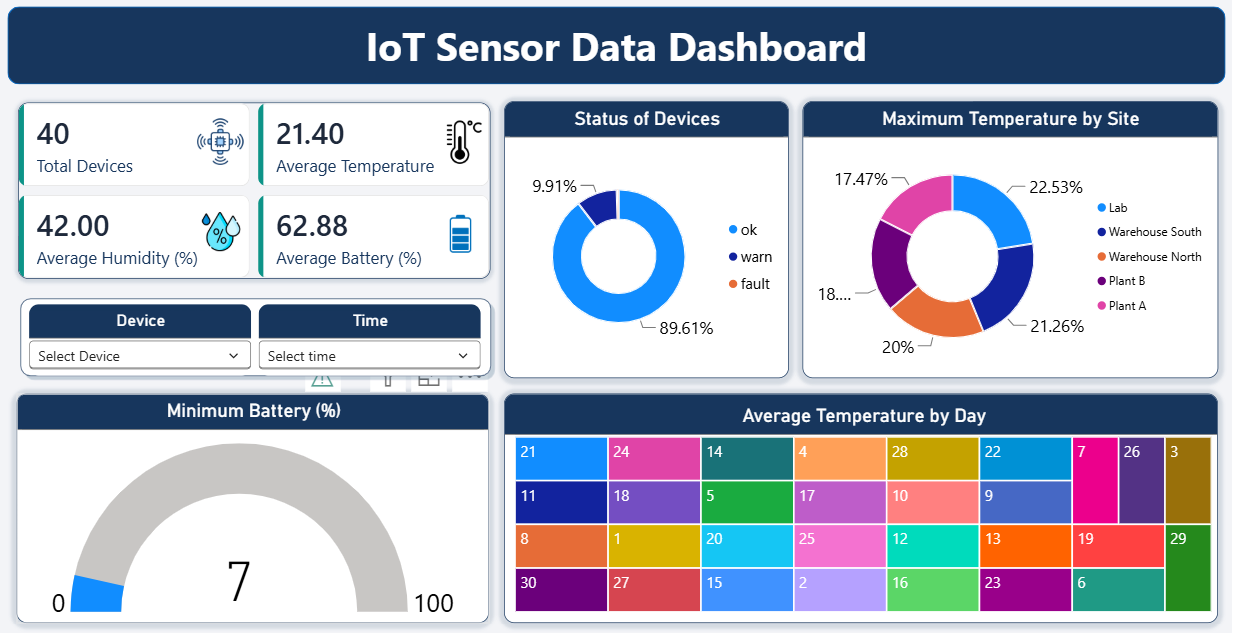

The page's visual inventory and layout, read from the dashboard file:
{"tool":"powerbi","page":{"name":"Page 2","canvas":[1920,1080],"ordinal":1},"visuals":[{"type":"shape","box":[10,10,1160,74.3],"z":0},{"type":"cardVisual","fields":{"Data":["Count(mydatabase sensor_data.device_id)","Avg(mydatabase sensor_data.temperature_c)","Avg(mydatabase sensor_data.humidity_pct)","Avg(mydatabase sensor_data.battery_pct)"]},"box":[20,101,450,168],"z":1000},{"type":"textbox","box":[10,21.4,1160,51.4],"z":2000},{"type":"treemap","title":"Average Temperature by Day","fields":{"Group":["mydatabase sensor_data.date.Variation.Date Hierarchy.Day"],"Values":["Avg(mydatabase sensor_data.temperature_c)"]},"box":[482.9,378.6,680,218.6],"z":3000},{"type":"donutChart","title":"Status of Devices","fields":{"Category":["mydatabase sensor_data.status"],"Y":["CountNonNull(mydatabase sensor_data.device_id)"]},"box":[482.9,100,271.4,264.3],"z":4000},{"type":"pieChart","title":"Maximum Temperature by Site","fields":{"Category":["mydatabase sensor_data.site"],"Y":["Max(mydatabase sensor_data.temperature_c)"]},"box":[767.1,100,395.7,264.3],"z":5000},{"type":"image","box":[175.7,115.7,74.3,45.7],"z":6000},{"type":"image","box":[410,118.6,70,41.4],"z":7000},{"type":"image","box":[182.9,205.7,61.4,37.1],"z":8000},{"type":"image","box":[411.4,205.7,60,41.4],"z":9000},{"type":"gauge","title":"Minimum Battery (%)","fields":{"Y":["Min(mydatabase sensor_data.battery_pct)"]},"box":[18.6,378.6,450,218.6],"z":10000},{"type":"shape","box":[17.1,282.9,458.6,84.3],"z":11000},{"type":"listSlicer","fields":{"Values":["mydatabase sensor_data.device_id"]},"box":[30,292.9,212.9,68.6],"z":12000},{"type":"listSlicer","title":"Time","fields":{"Values":["mydatabase sensor_data.time"]},"box":[248.6,292.9,212.9,68.6],"z":13000}]}

Visuals, with their boxes on the page's 1920x1080 design canvas (x1, y1, x2, y2). These are canvas units, not pixel positions in the 1234x633 screenshot, which may show the page scaled, cropped or inside an application window:
shape: bbox=[10, 10, 1170, 84]
cardVisual - Count(mydatabase sensor_data.device_id) x Avg(mydatabase sensor_data.temperature_c): bbox=[20, 101, 470, 269]
textbox: bbox=[10, 21, 1170, 73]
"Average Temperature by Day" treemap: bbox=[483, 379, 1163, 597]
"Status of Devices" donutChart: bbox=[483, 100, 754, 364]
"Maximum Temperature by Site" pieChart: bbox=[767, 100, 1163, 364]
image: bbox=[176, 116, 250, 161]
image: bbox=[410, 119, 480, 160]
image: bbox=[183, 206, 244, 243]
image: bbox=[411, 206, 471, 247]
"Minimum Battery (%)" gauge: bbox=[19, 379, 469, 597]
shape: bbox=[17, 283, 476, 367]
listSlicer - mydatabase sensor_data.device_id: bbox=[30, 293, 243, 362]
"Time" listSlicer: bbox=[249, 293, 462, 362]
